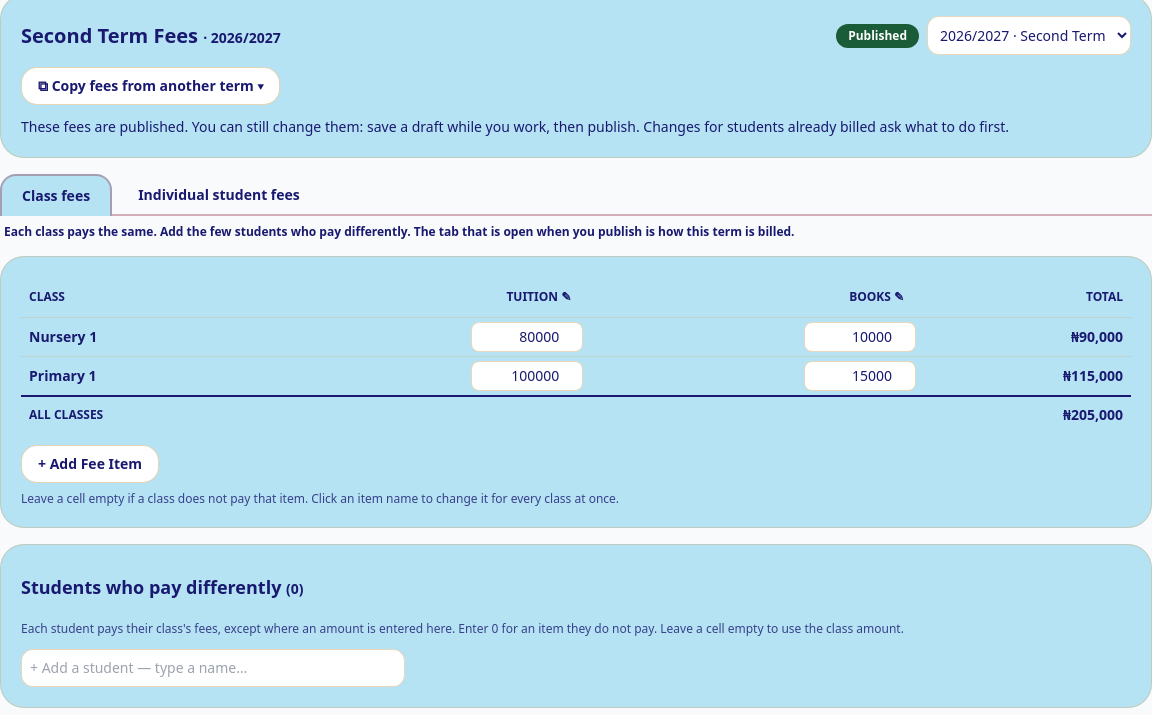
it: fee entry saves itself as a draft a few seconds after typing stops
Replace the text in the number field named "Primary 1 Tuition" with "121000": (527, 376) [471,361,583,391]
(page scrolled)
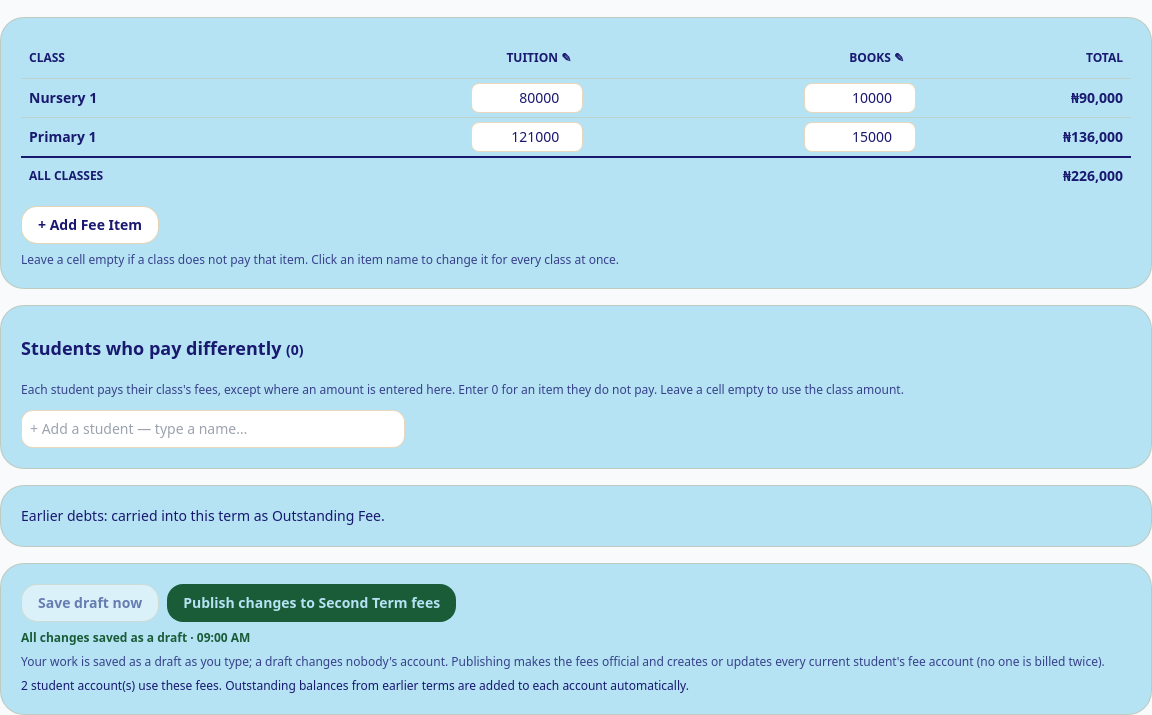
Result: the text "All changes saved as a draft · 09:00 AM" is shown at [21,629,250,646]
